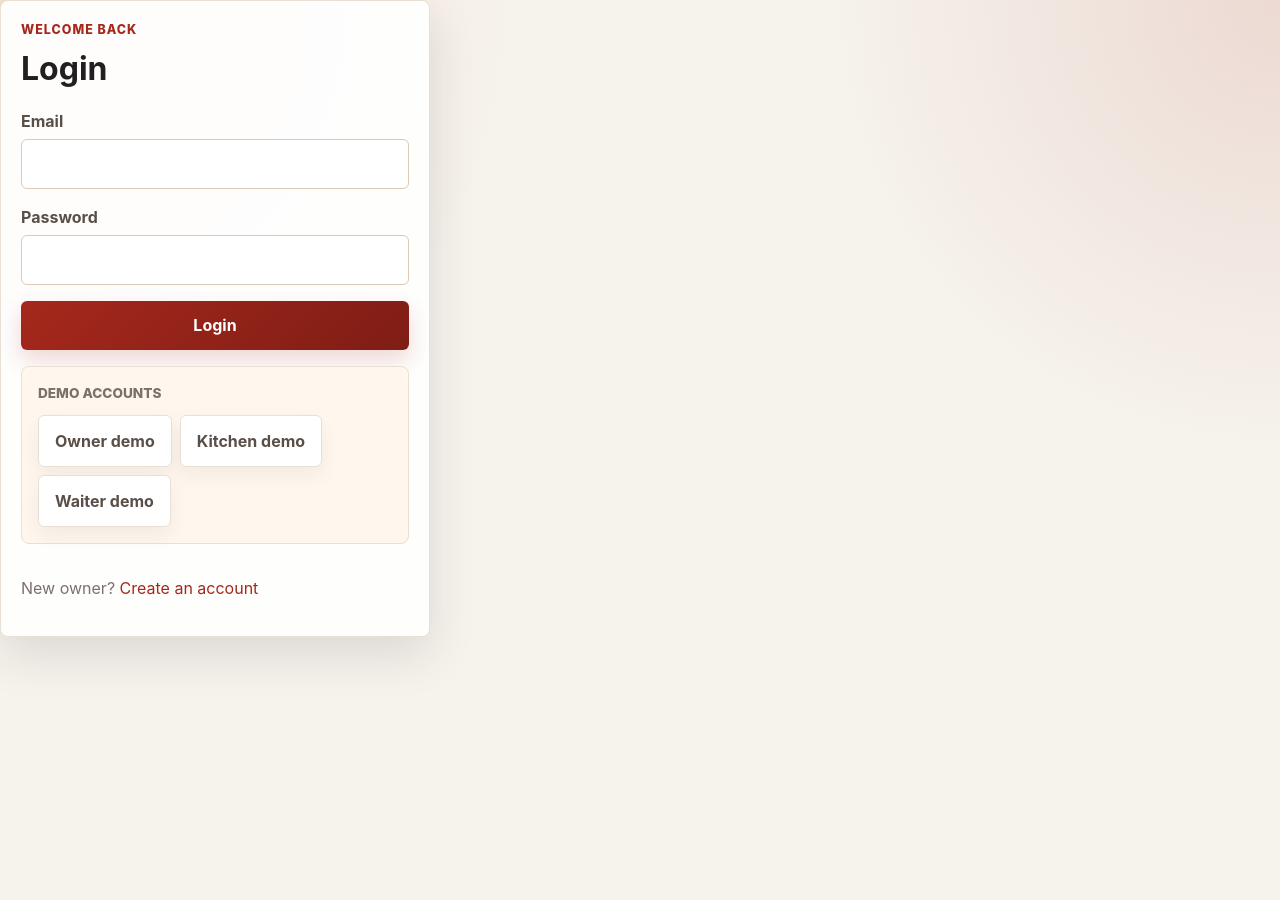
LoginPage › fills demo credentials from quick actions
Click the button "Kitchen demo" at (251, 441), box [180,416,322,467]
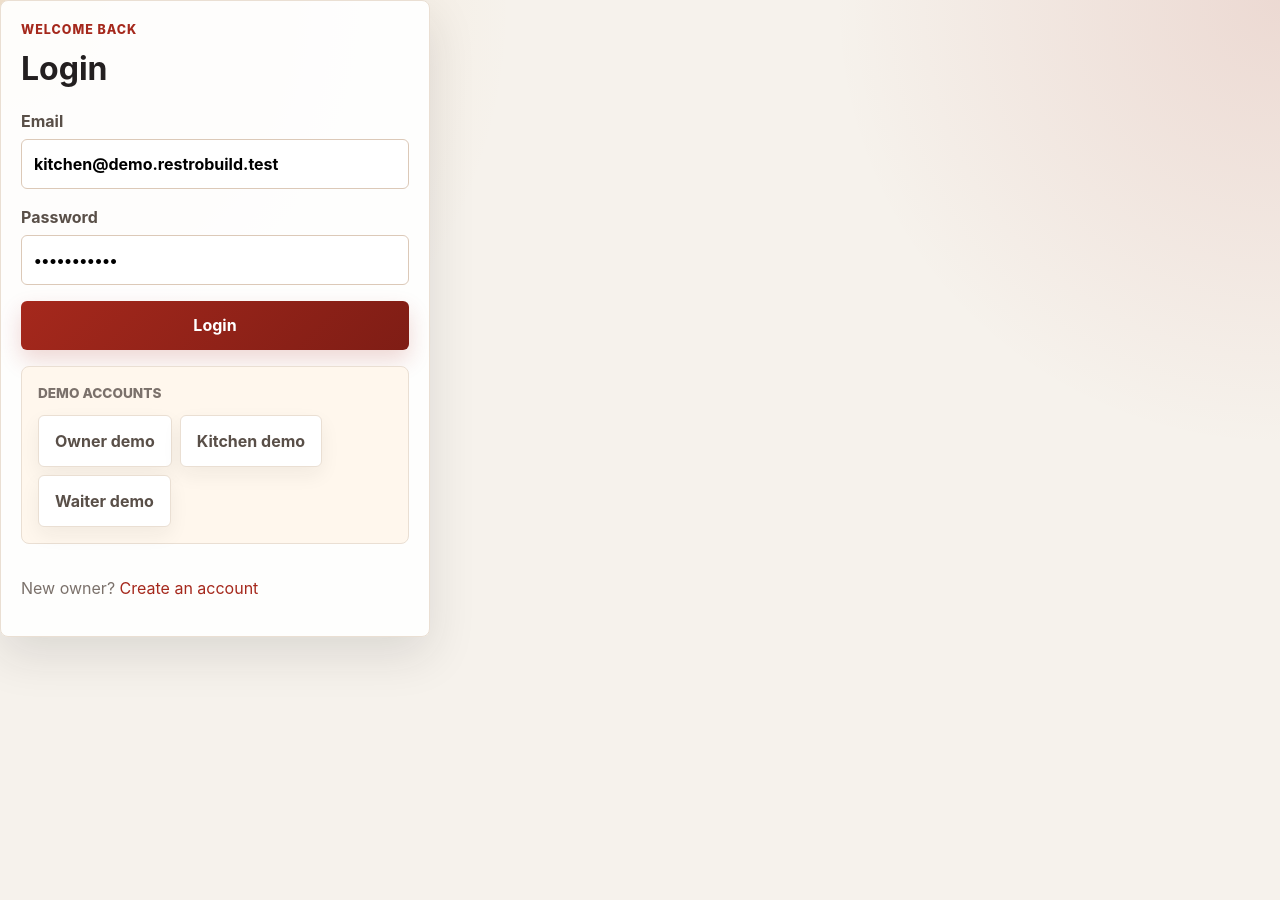
Expected: the field labelled "Email" holds "kitchen@demo.restrobuild.test", [21,139,409,189]
Expected: the password field labelled "Password" holds "DemoPass123", [21,234,409,284]
